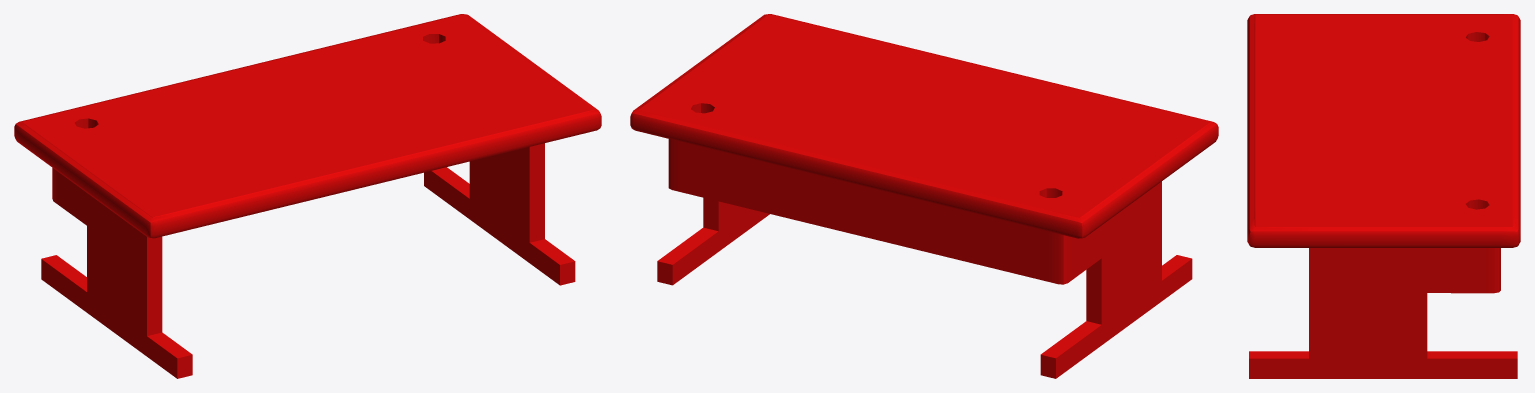
The model's file is Desk_Full_FBX.fbx.
3 views of the same model, side by side, from view 1: azimuth 30°, elevation 25°; view 2: azimuth 150°, elevation 25°; view 3: azimuth 270°, elevation 25° (orthographic).
Visible parts, largest first — view 1: Table9; view 2: Table9; view 3: Table9.
Boxes of the visible parts, bbox=[...] form: Table9: bbox=[14, 14, 601, 378]; Table9: bbox=[630, 14, 1218, 378]; Table9: bbox=[1247, 14, 1520, 378].
Size of the model in its own units: 1158 by 400 by 610.
